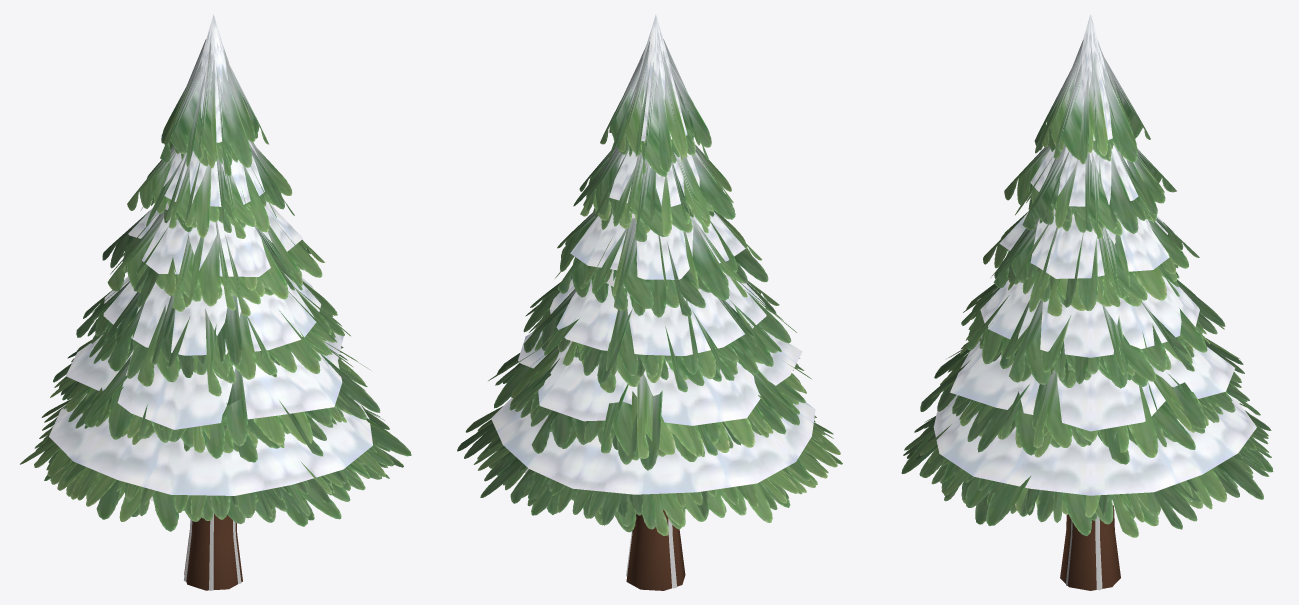
The model's file is conifer-cedar-snow.glb.
The picture shows the model from 3 angles, left to right: view 1: azimuth 30°, elevation 25°; view 2: azimuth 150°, elevation 25°; view 3: azimuth 270°, elevation 25°; orthographic projection.
Parts seen in each view (by area): view 1: Crown, Trunk, Stem; view 2: Crown, Trunk; view 3: Crown, Trunk, Stem.
Boxes of the visible parts, box(x1,y1,x2,y2) form: Crown: box(20, 14, 411, 531); Trunk: box(184, 513, 242, 590); Stem: box(183, 513, 241, 590); Crown: box(457, 14, 842, 535); Trunk: box(626, 509, 685, 590); Crown: box(901, 14, 1273, 537); Trunk: box(1060, 505, 1120, 590); Stem: box(1066, 516, 1102, 590).
Size of the model in its own units: 2.6 by 4.08 by 2.63.
4 materials, 1 textured.
